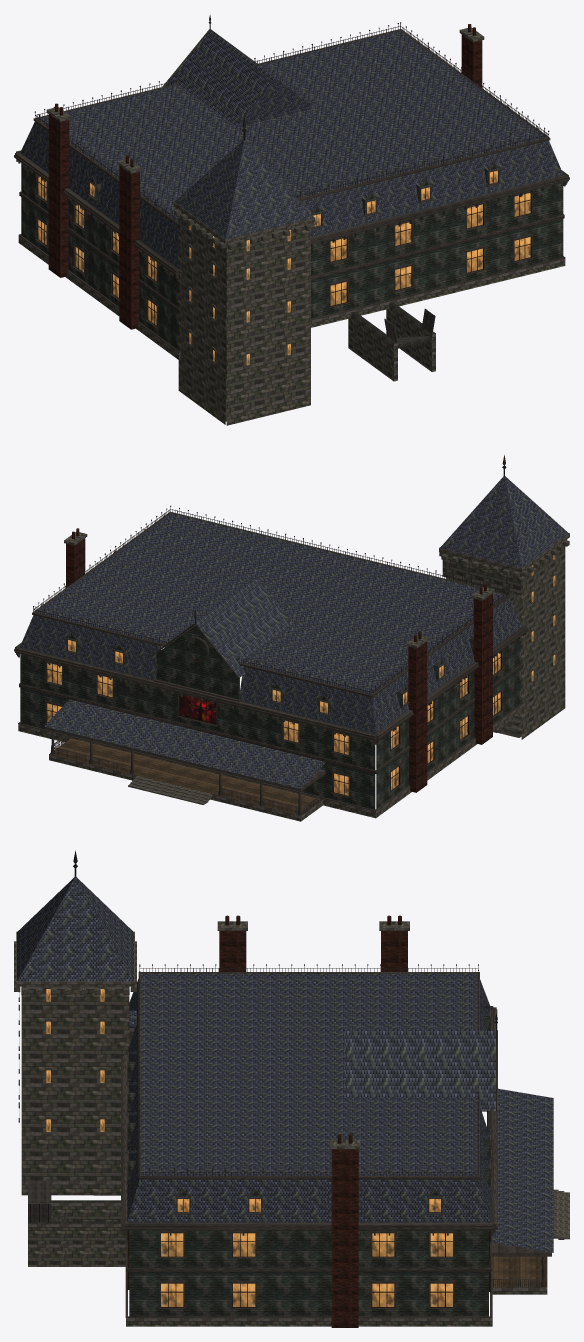
The model's file is house_outside_v7.glb.
3 views of the same model, one above another, from view 1: azimuth 30°, elevation 25°; view 2: azimuth 150°, elevation 25°; view 3: azimuth 270°, elevation 25° (orthographic). The views are drawn at different scales.
Visible parts, largest first — view 1: house_outside; view 2: house_outside; view 3: house_outside.
Boxes of the visible parts, box(x1,y1,x2,y2) form: house_outside: box(14, 15, 569, 425); house_outside: box(14, 455, 569, 821); house_outside: box(14, 850, 569, 1327).
Size of the model in its own units: 59.2 by 39.8 by 61.87.
Materials: 19 (16 with a texture image).
